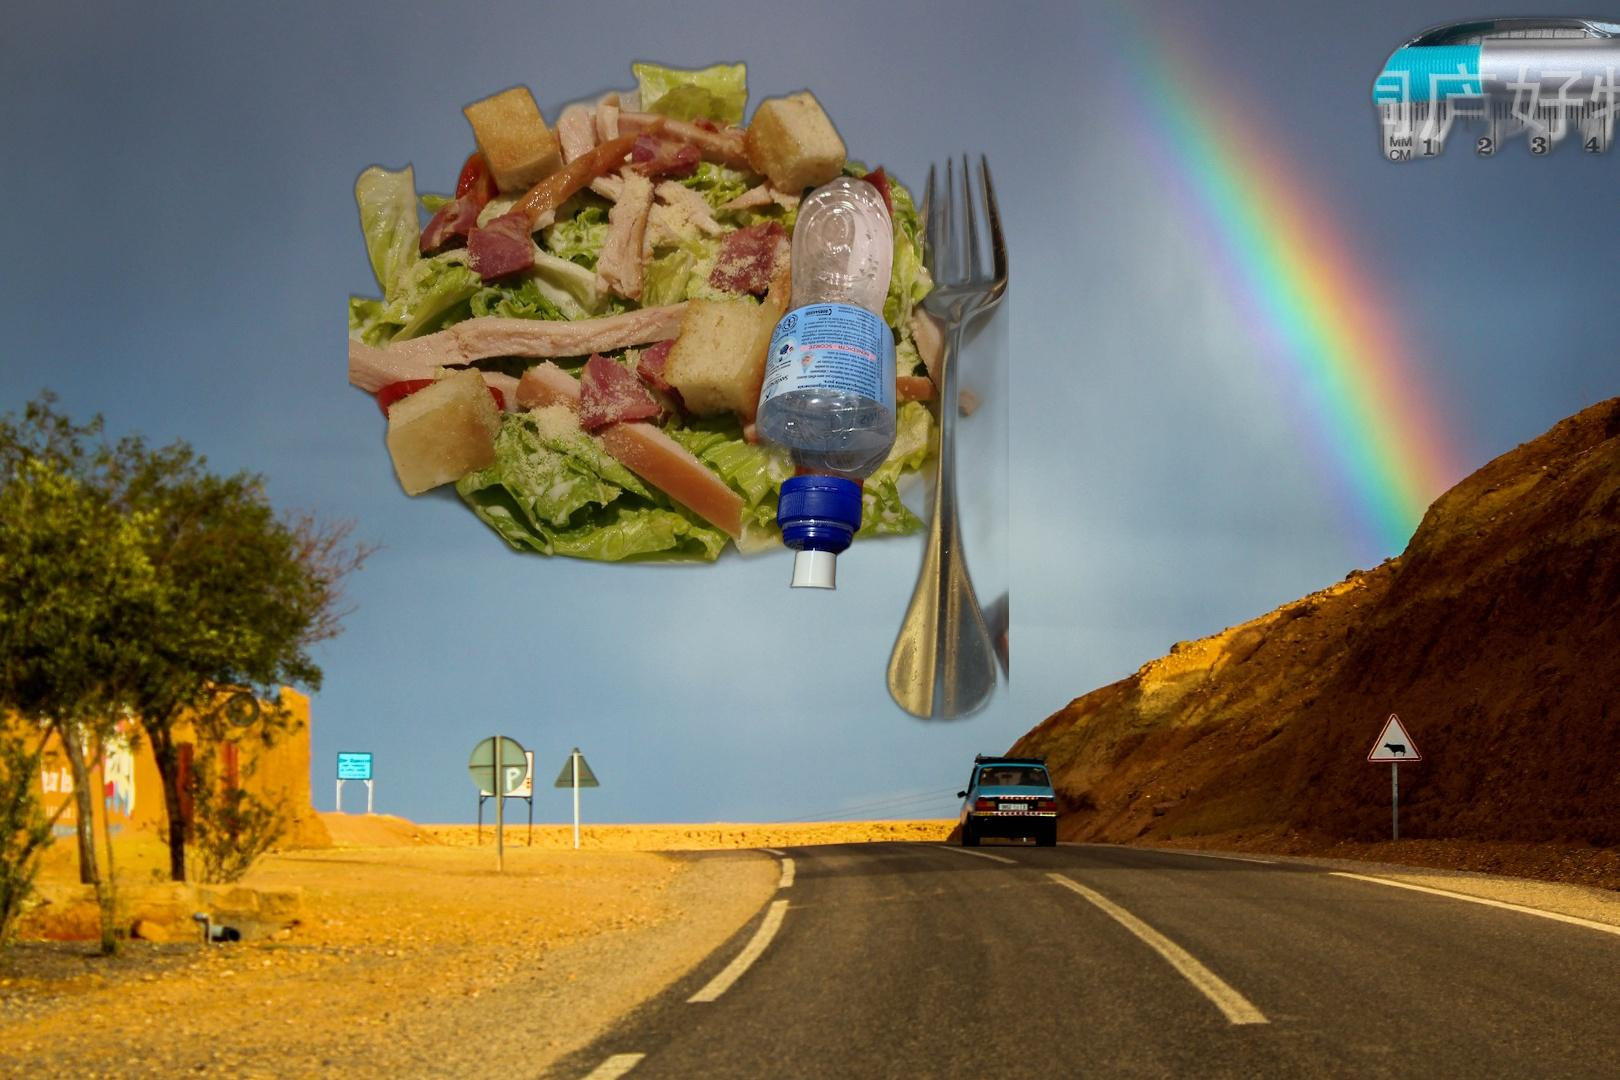biological: (350, 51, 1009, 735)
penholder: (1363, 0, 1620, 184)
plastic-bottles: (752, 172, 900, 593)
